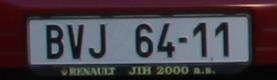-: (178, 37, 187, 43)
1: (193, 22, 207, 57), (216, 22, 229, 57)
4: (157, 23, 175, 57)
6: (135, 23, 153, 58)
B: (46, 24, 63, 59)
J: (89, 24, 107, 59)
V: (67, 25, 83, 59)
